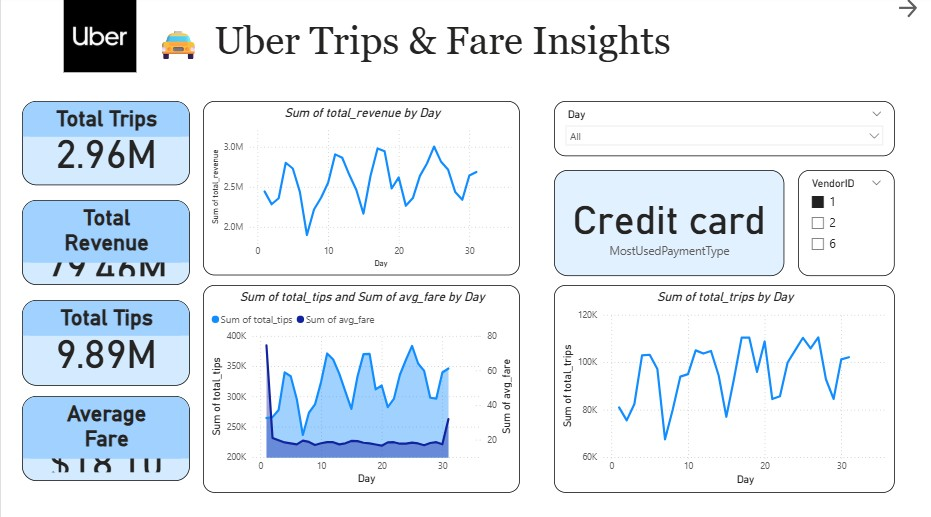

The dashboard page shown, as its layout file describes it:
{"tool":"powerbi","page":{"name":"Page 1","canvas":[1280,720],"ordinal":0},"visuals":[{"type":"card","title":"Total Trips","fields":{"Values":["Sum(tripsrevenue (2).total_trips)"]},"box":[28.9,144.5,231.2,115.6],"z":0},{"type":"card","title":"Total Revenue","fields":{"Values":["Sum(tripsrevenue (2).total_revenue)"]},"box":[28.9,280.8,231.2,117],"z":1000},{"type":"card","title":"Total Tips","fields":{"Values":["Sum(tripsrevenue (2).total_tips)"]},"box":[28.9,418.4,231.2,118.4],"z":2000},{"type":"card","title":"Average Fare","fields":{"Values":["Avg(tripsrevenue (2).avg_fare)"]},"box":[28.9,550.5,231.2,117],"z":3000},{"type":"lineChart","fields":{"Category":["tripsrevenue (2).trip_date.Variation.Date Hierarchy.Day"],"Y":["Sum(tripsrevenue (2).total_trips)"]},"box":[760.8,397.6,469.1,286],"z":4000},{"type":"lineChart","fields":{"Category":["tripsrevenue (2).trip_date.Variation.Date Hierarchy.Day"],"Y":["Sum(tripsrevenue (2).total_revenue)"]},"box":[277.5,144.4,436.2,240.3],"z":5000},{"type":"areaChart","fields":{"Category":["tripsrevenue (2).trip_date.Variation.Date Hierarchy.Day"],"Y":["Sum(tripsrevenue (2).total_tips)"],"Y2":["Sum(tripsrevenue (2).avg_fare)"]},"box":[277.5,397.6,436.2,286],"z":6000},{"type":"actionButton","box":[1229.9,0,50.1,34.3],"z":7000},{"type":"card","fields":{"Values":["analytics (2).MostUsedPaymentType"]},"box":[760.8,238.8,317.5,145.9],"z":8000},{"type":"slicer","fields":{"Values":["analytics (2).VendorID"]},"box":[1096.9,238.8,133,145.9],"z":9000},{"type":"slicer","fields":{"Values":["tripsrevenue (2).trip_date.Variation.Date Hierarchy.Day"]},"box":[760.8,144.4,469.1,75.8],"z":10000},{"type":"image","box":[52.9,0,168.8,110.1],"z":11000},{"type":"textbox","box":[201.7,17.2,962.5,81.5],"z":12000}]}

Visuals, with their boxes in screenshot pixels (x1, y1, x2, y2), scaled from the page's 1280x720 canvas onto the 931x517 screenshot:
"Total Trips" card: x1=21, y1=104, x2=189, y2=187
"Total Revenue" card: x1=21, y1=202, x2=189, y2=286
"Total Tips" card: x1=21, y1=300, x2=189, y2=385
"Average Fare" card: x1=21, y1=395, x2=189, y2=479
lineChart - tripsrevenue (2).trip_date.Variation.Date Hierarchy.Day x Sum(tripsrevenue (2).total_trips): x1=553, y1=285, x2=895, y2=491
lineChart - tripsrevenue (2).trip_date.Variation.Date Hierarchy.Day x Sum(tripsrevenue (2).total_revenue): x1=202, y1=104, x2=519, y2=276
areaChart - tripsrevenue (2).trip_date.Variation.Date Hierarchy.Day x Sum(tripsrevenue (2).total_tips): x1=202, y1=285, x2=519, y2=491
actionButton: x1=895, y1=0, x2=930, y2=25
card - analytics (2).MostUsedPaymentType: x1=553, y1=171, x2=784, y2=276
slicer - analytics (2).VendorID: x1=798, y1=171, x2=895, y2=276
slicer - tripsrevenue (2).trip_date.Variation.Date Hierarchy.Day: x1=553, y1=104, x2=895, y2=158
image: x1=38, y1=0, x2=161, y2=79
textbox: x1=147, y1=12, x2=847, y2=71
